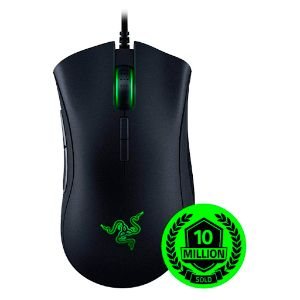mouse: (39, 21, 207, 288)
